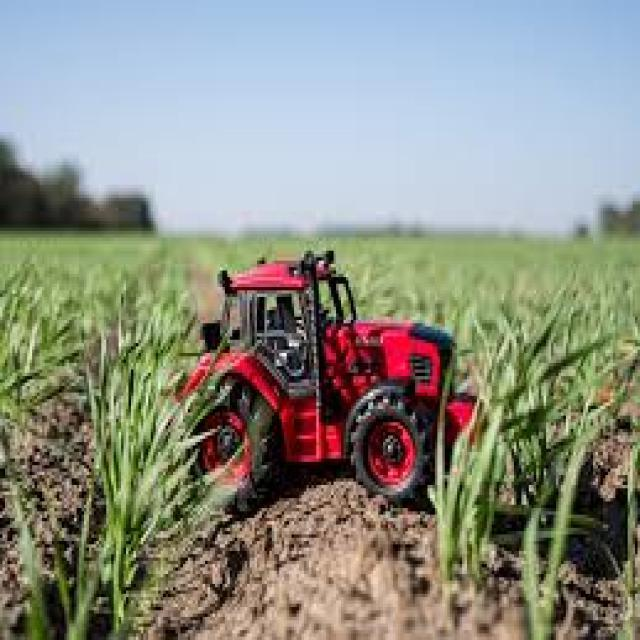Tratores - v5 YOLO V8L 2024-11-13: (171, 231, 492, 508)
